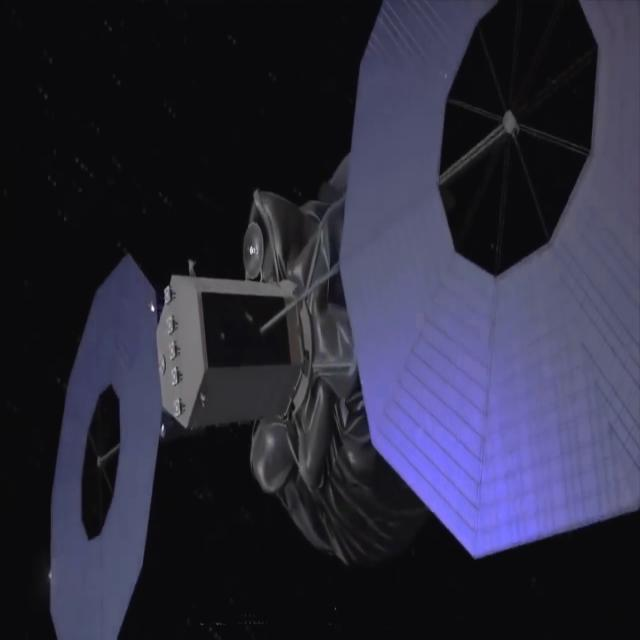satellite: (38, 0, 640, 640)
